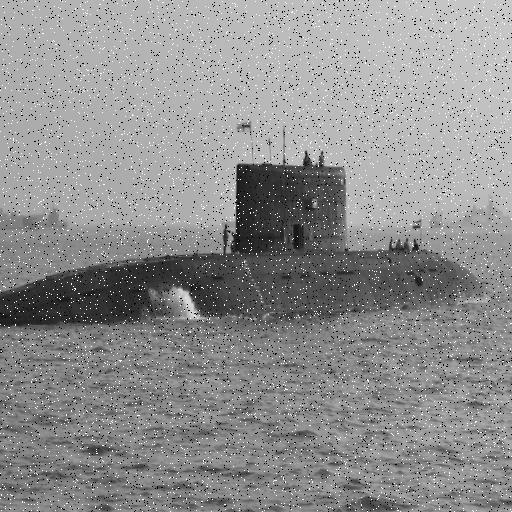submarine: (1, 170, 501, 332)
